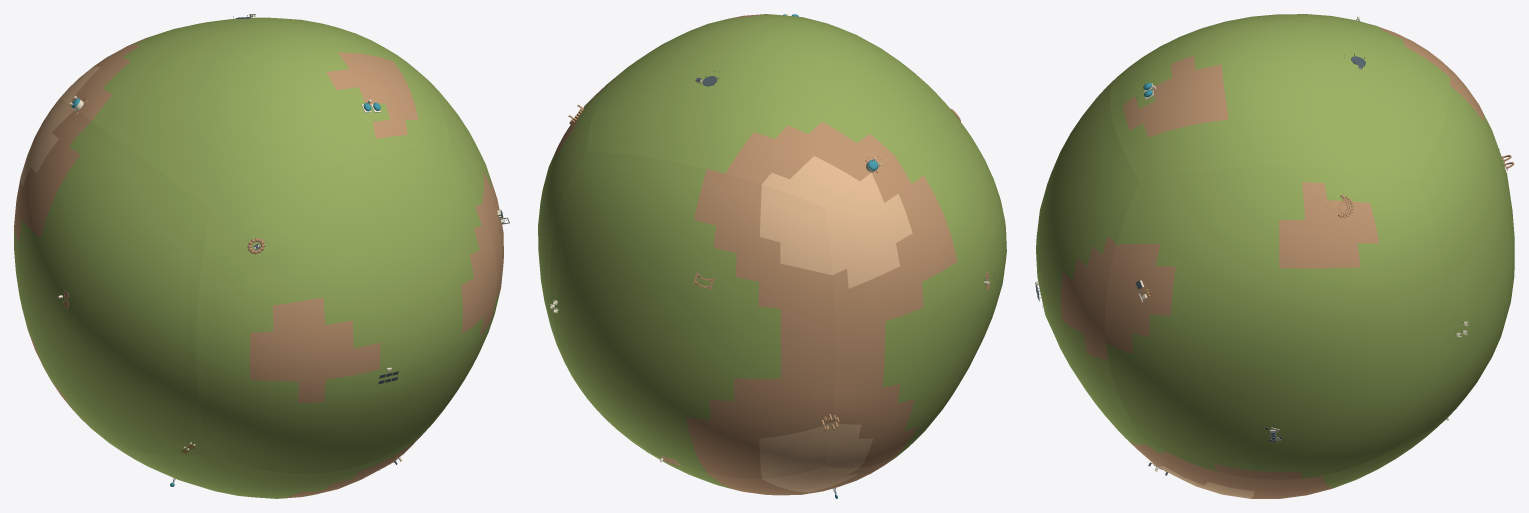
File: lurga_orbital.glb
3 renders of one model, left to right at view 1: azimuth 30°, elevation 25°; view 2: azimuth 150°, elevation 25°; view 3: azimuth 270°, elevation 25°, orthographic. The views are drawn at different scales.
Parts seen in each view (by area): view 1: terrain_orbital_4, terrain_orbital_1, terrain_orbital_2, terrain_orbital_3, terrain_orbital_0; view 2: terrain_orbital_5, terrain_orbital_1, terrain_orbital_2, terrain_orbital_0, terrain_orbital_3; view 3: terrain_orbital_0, terrain_orbital_2, terrain_orbital_5, terrain_orbital_4, terrain_orbital_3.
Boxes of the visible parts, bbox=[...] form: terrain_orbital_4: bbox=[196, 147, 497, 473]; terrain_orbital_1: bbox=[14, 99, 209, 455]; terrain_orbital_2: bbox=[60, 17, 450, 208]; terrain_orbital_3: bbox=[94, 414, 440, 498]; terrain_orbital_0: bbox=[418, 71, 503, 345]; terrain_orbital_5: bbox=[550, 152, 834, 478]; terrain_orbital_1: bbox=[825, 115, 1006, 468]; terrain_orbital_2: bbox=[586, 14, 952, 207]; terrain_orbital_0: bbox=[538, 71, 622, 384]; terrain_orbital_3: bbox=[596, 409, 905, 495]; terrain_orbital_0: bbox=[1104, 166, 1445, 479]; terrain_orbital_2: bbox=[1109, 14, 1450, 182]; terrain_orbital_5: bbox=[1418, 61, 1514, 433]; terrain_orbital_4: bbox=[1036, 78, 1139, 435]; terrain_orbital_3: bbox=[1118, 428, 1436, 498].
Bounding box in the file's own units: 494 × 499 × 490.
